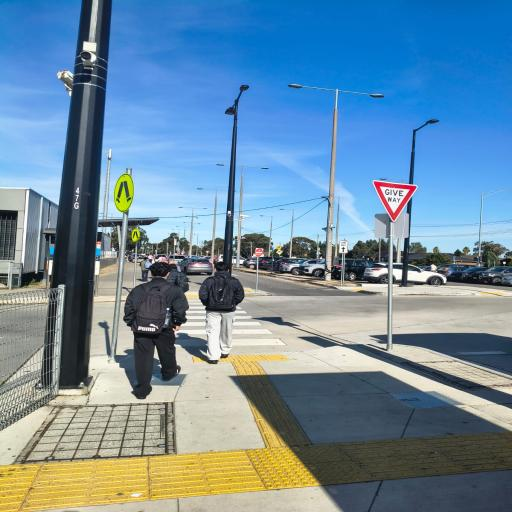signage: (377, 181, 415, 353), (108, 172, 134, 358)
tgsi: (3, 429, 506, 508), (233, 358, 323, 447)
